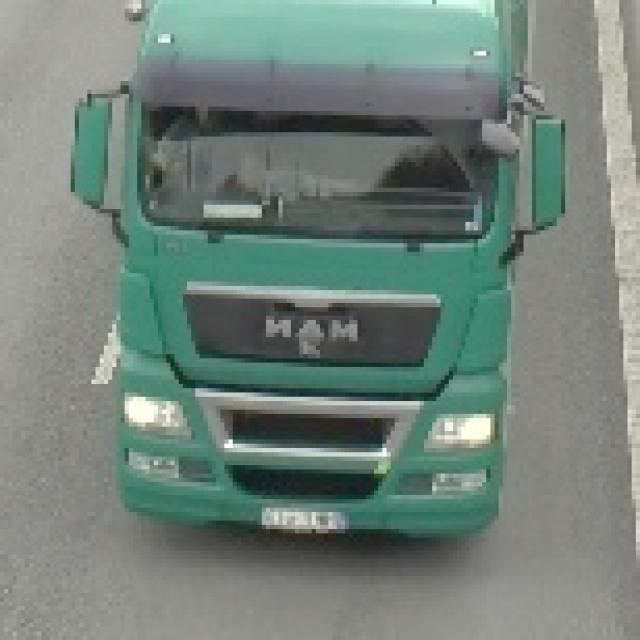truck: (68, 1, 566, 543)
